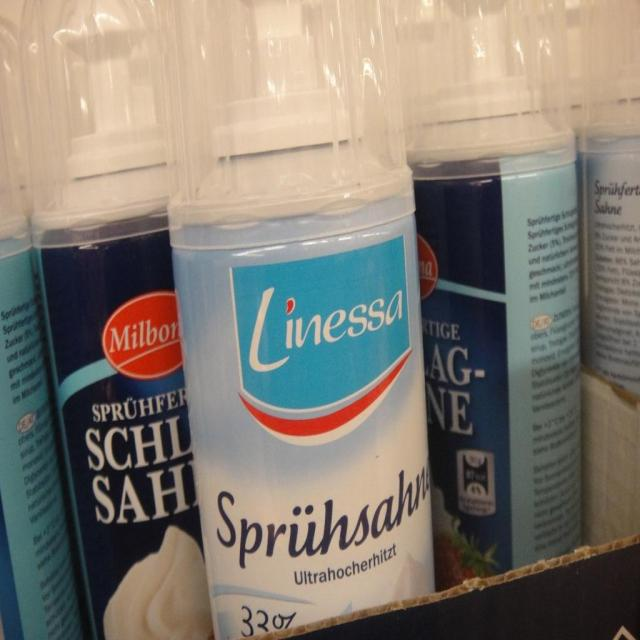Cream: (168, 1, 434, 639), (21, 0, 211, 640), (398, 0, 582, 589), (0, 16, 81, 640), (569, 0, 640, 397)
